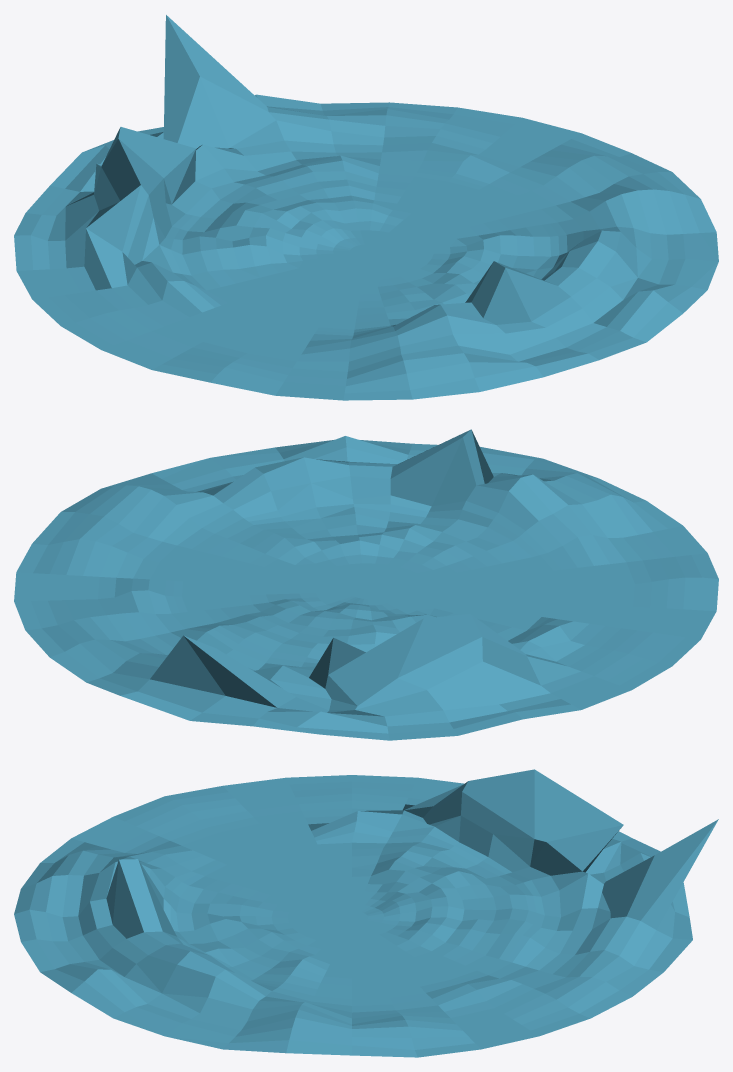
Rendered from terrain1-transformed.glb.
3 views of the same model, one above another, from view 1: azimuth 30°, elevation 25°; view 2: azimuth 150°, elevation 25°; view 3: azimuth 270°, elevation 25° (orthographic). The views are drawn at different scales.
Visible parts, largest first — view 1: Circle; view 2: Circle; view 3: Circle.
Part boxes in pixels (x1,y1,x2,y2): Circle: [14, 15, 718, 400]; Circle: [14, 429, 718, 740]; Circle: [14, 769, 718, 1057].
Size of the model in its own units: 2 by 0.3091 by 2.09.
